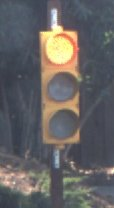Red: (31, 29, 83, 154)
